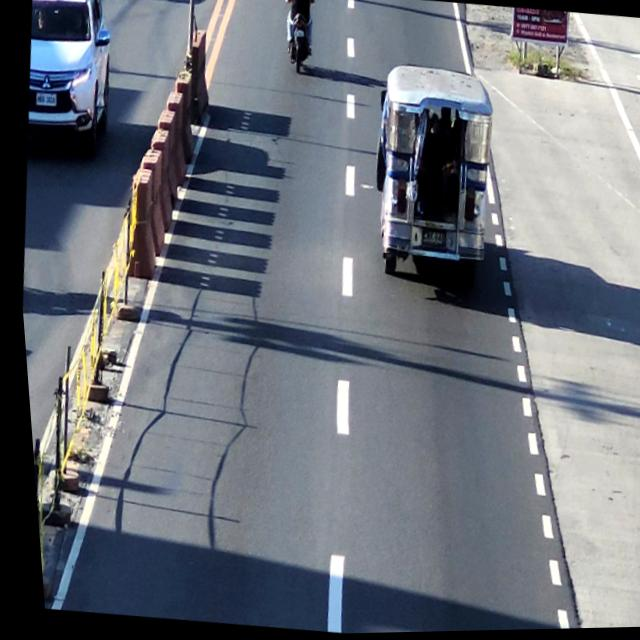Jeep: (362, 71, 497, 281)
License-Plate: (413, 229, 442, 252)
Motorcycle: (278, 0, 318, 72)
